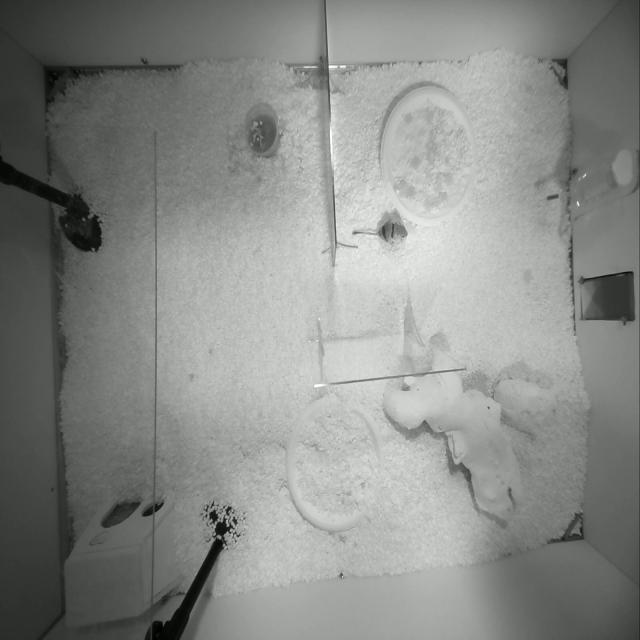pup_h_stripe: (352, 219, 407, 243)
